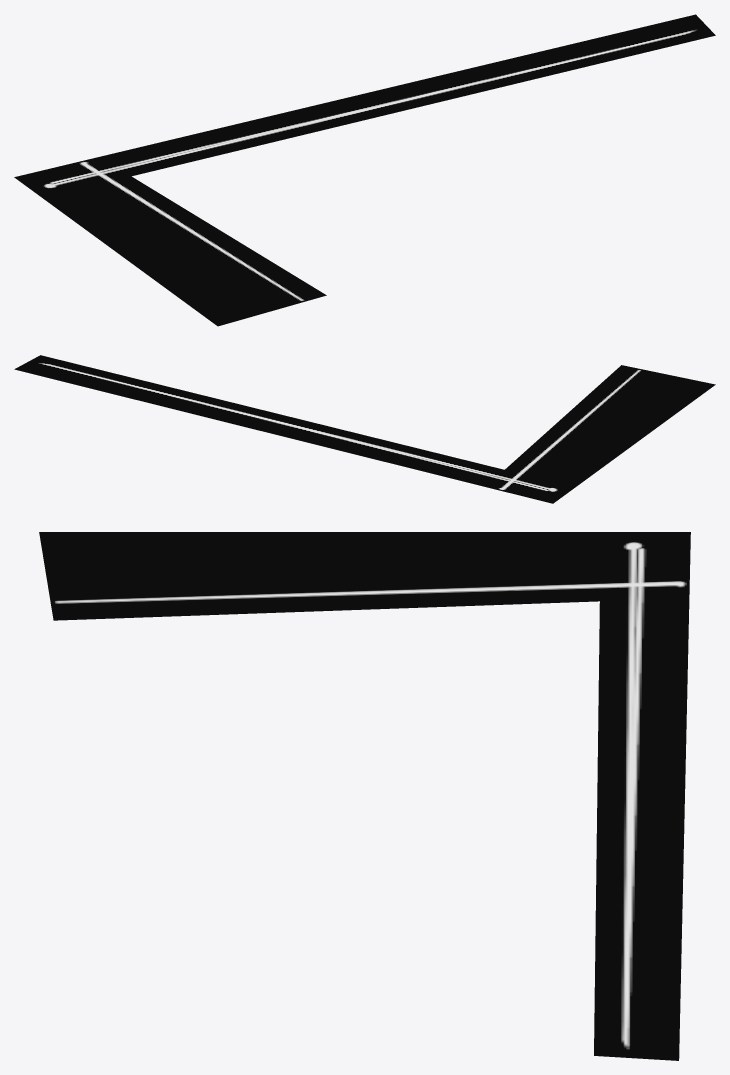
Rendered from SM_line_Angle_4.fbx.
3 views of the same model, one above another, from view 1: azimuth 30°, elevation 25°; view 2: azimuth 150°, elevation 25°; view 3: azimuth 270°, elevation 25° (orthographic). The views are drawn at different scales.
Parts seen in each view (by area): view 1: SM_line_Angle_4; view 2: SM_line_Angle_4; view 3: SM_line_Angle_4.
Part boxes in pixels (x1=…): SM_line_Angle_4: x1=14, y1=14, x2=715, y2=326; SM_line_Angle_4: x1=14, y1=355, x2=715, y2=503; SM_line_Angle_4: x1=39, y1=532, x2=690, y2=1060.
Bounding box in the file's own units: 103 × 0 × 53.71.
